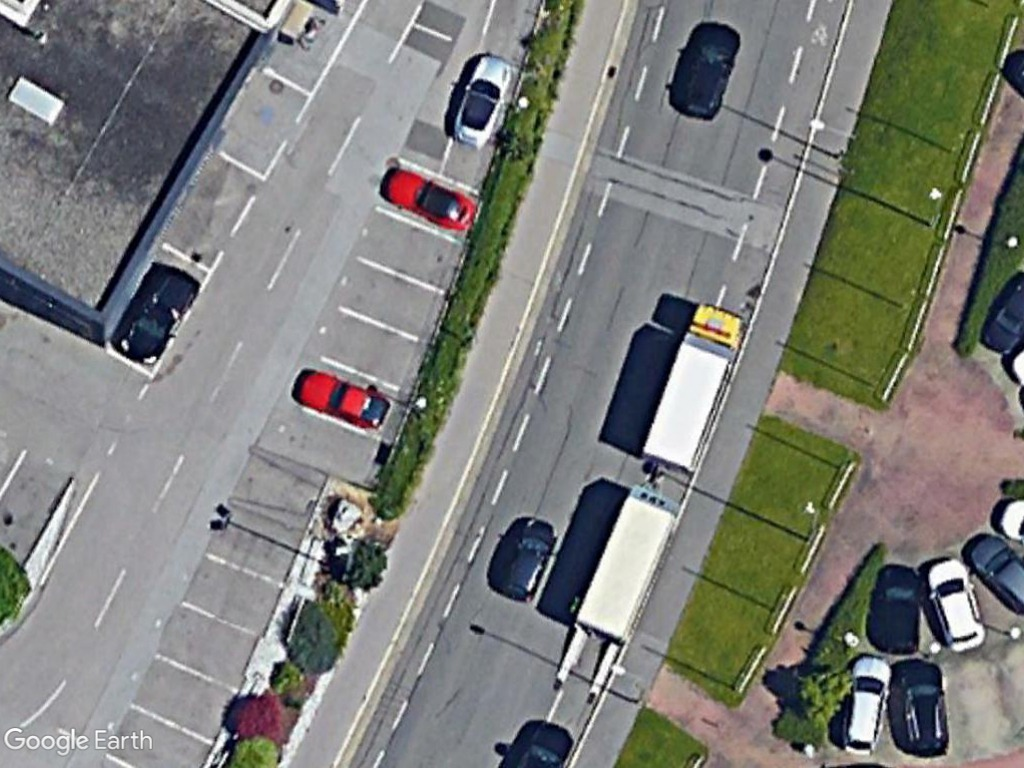car: (113, 265, 205, 369), (376, 162, 483, 237), (446, 46, 518, 153), (671, 18, 743, 122), (921, 550, 993, 654), (293, 365, 395, 433), (832, 652, 893, 763), (891, 652, 953, 760), (492, 511, 560, 607), (870, 559, 927, 658)
truck: (630, 299, 750, 480)
